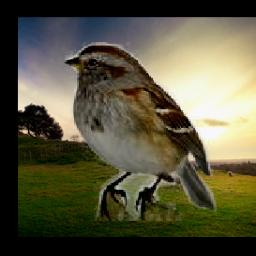Sparrow: (65, 42, 217, 221)
